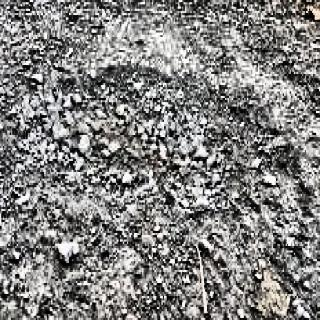alligator-crack: (2, 46, 289, 222)
